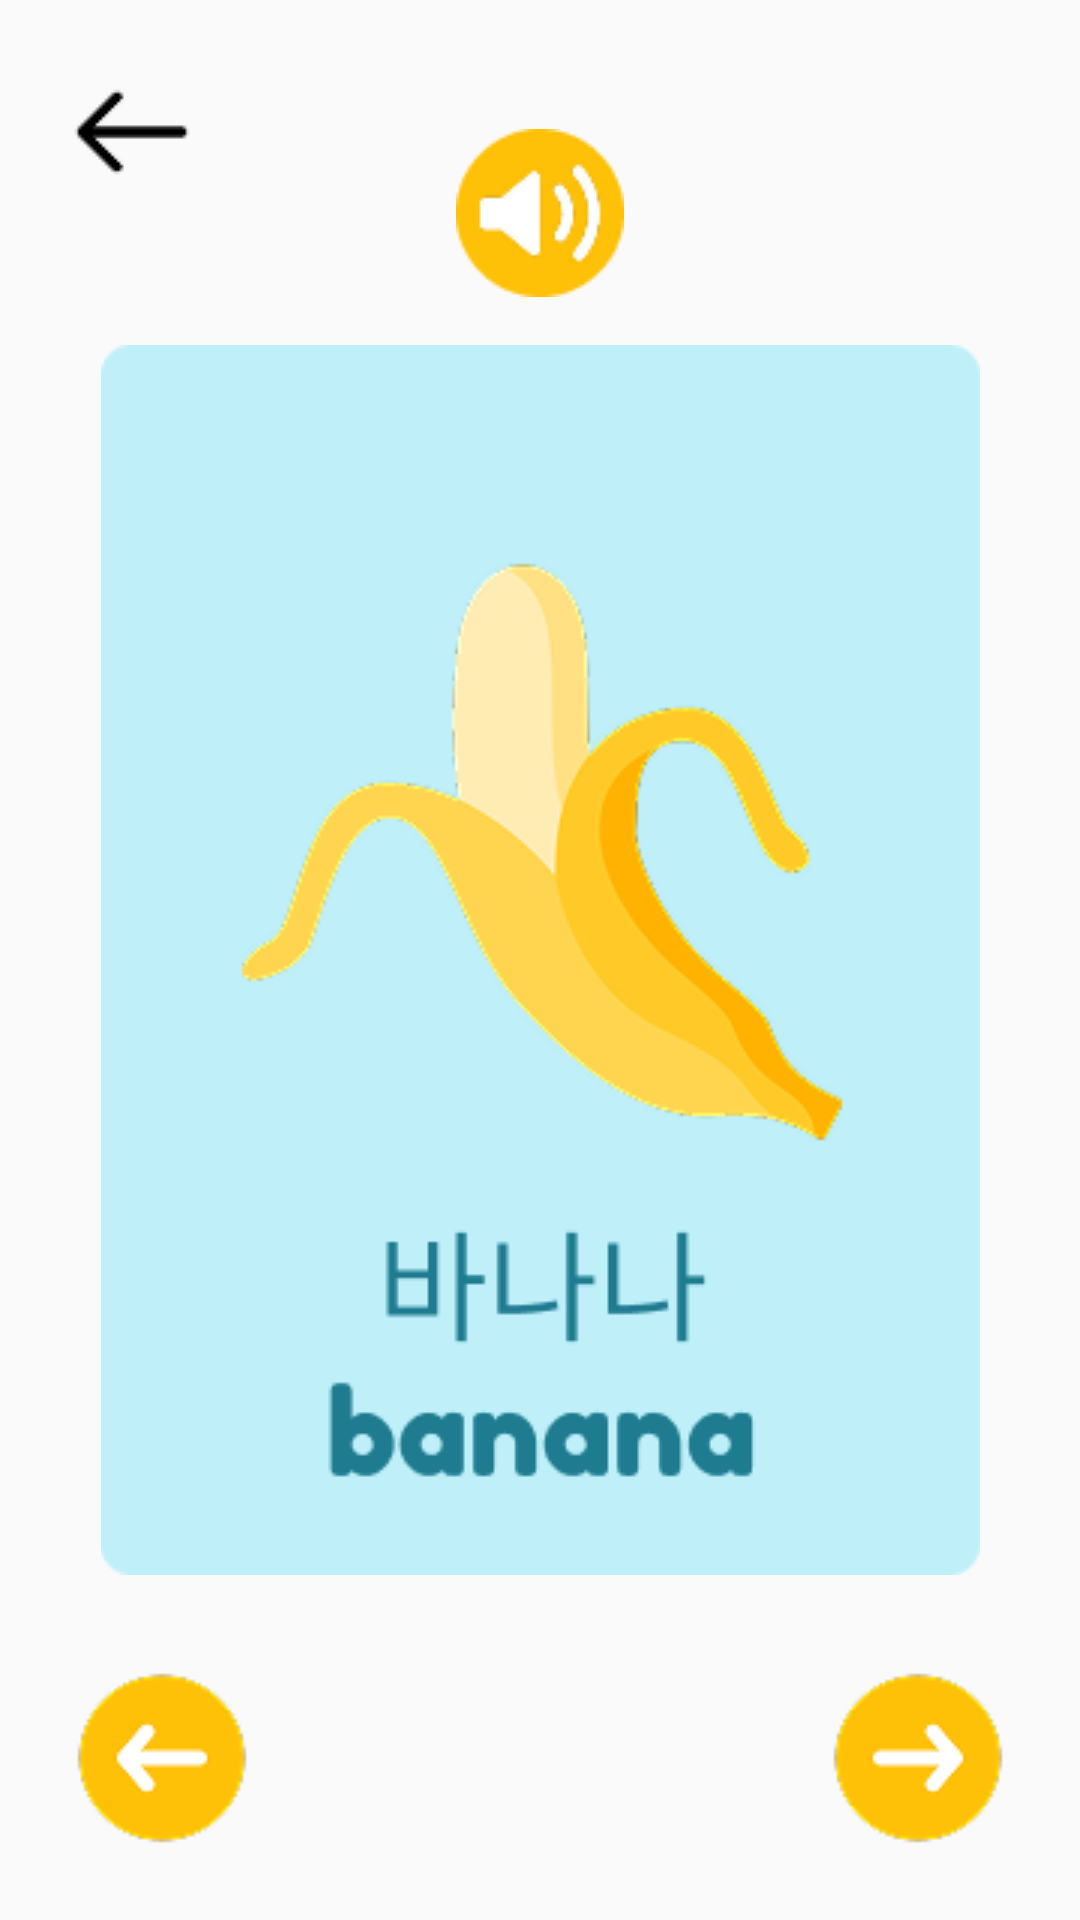

Icons on this 1080×1920 Android screen, each with the point to tap as (x=x, y=y):
back home: (x=132, y=131)
next: (x=918, y=1758)
previous: (x=162, y=1758)
sound: (x=540, y=213)
